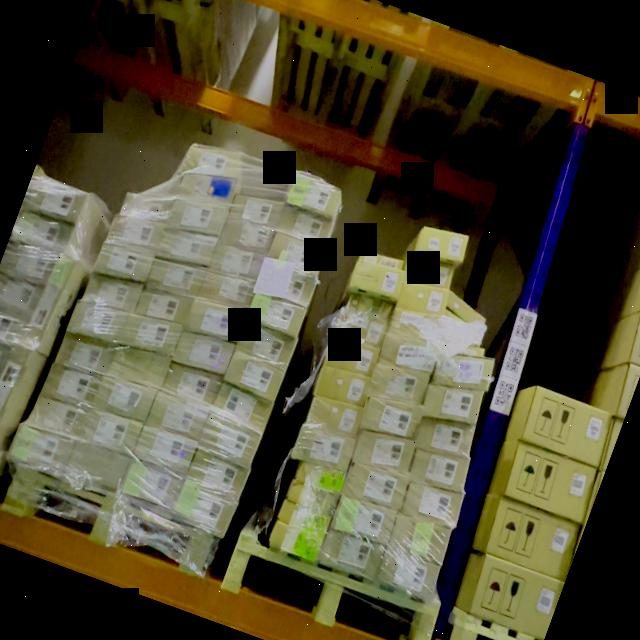box: (482, 497, 582, 582), (503, 440, 598, 525), (519, 384, 615, 467), (21, 258, 75, 349), (319, 527, 387, 581), (343, 462, 411, 514), (377, 549, 443, 602), (176, 478, 237, 533), (330, 496, 397, 546), (389, 514, 453, 566), (399, 481, 466, 530), (290, 424, 356, 473), (9, 425, 72, 476), (252, 257, 315, 307), (201, 414, 260, 466), (83, 411, 144, 460), (212, 382, 274, 430), (226, 350, 285, 400), (360, 394, 425, 439), (353, 429, 417, 474), (134, 426, 196, 472), (66, 302, 129, 347), (123, 463, 182, 511), (41, 364, 102, 410), (409, 449, 470, 494), (149, 392, 209, 437), (96, 375, 156, 420), (415, 415, 476, 459), (189, 452, 249, 496), (371, 363, 432, 406), (240, 321, 297, 367), (94, 241, 153, 284), (422, 384, 485, 424), (382, 330, 438, 375), (188, 298, 246, 341), (28, 397, 87, 439), (69, 444, 127, 486), (125, 316, 181, 359), (432, 354, 495, 392), (250, 293, 307, 335), (173, 333, 236, 371), (109, 348, 170, 387), (106, 215, 165, 255), (305, 397, 363, 437), (84, 274, 142, 314), (267, 521, 323, 562), (325, 337, 382, 377), (313, 366, 370, 406), (331, 312, 387, 352), (349, 263, 404, 303), (157, 232, 219, 267), (0, 348, 29, 422), (279, 206, 334, 245), (146, 260, 205, 296), (168, 204, 230, 238), (55, 336, 110, 374), (276, 499, 329, 537), (166, 368, 221, 404), (288, 173, 339, 211), (212, 244, 262, 282), (135, 292, 192, 325), (415, 228, 470, 262), (403, 256, 456, 291), (269, 234, 322, 269), (396, 283, 453, 315), (230, 196, 282, 229), (183, 147, 242, 176), (222, 222, 276, 253), (389, 309, 447, 337), (296, 461, 346, 493), (288, 482, 337, 514), (180, 176, 236, 204), (201, 275, 250, 306), (121, 192, 173, 220), (345, 296, 395, 325), (446, 293, 490, 324), (437, 336, 487, 358), (361, 253, 405, 272)
